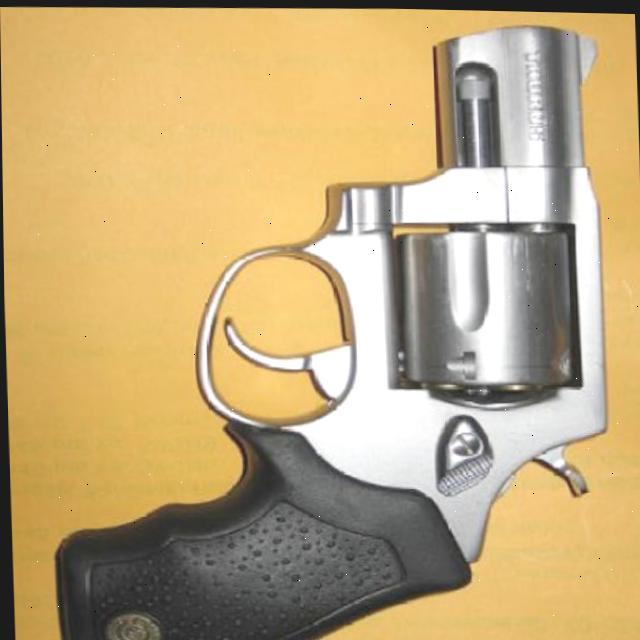gun: (40, 11, 618, 640)
